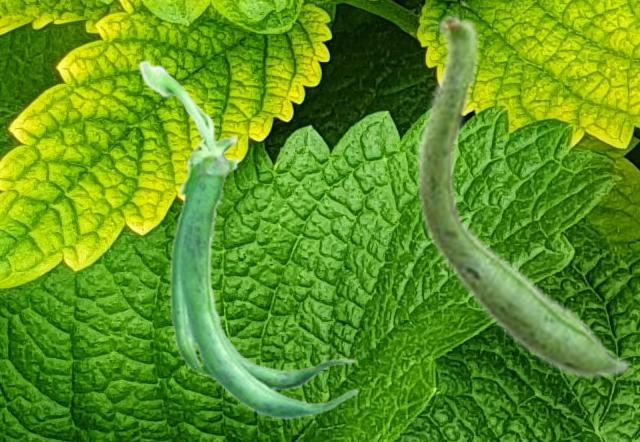french_bean: (137, 59, 358, 419), (415, 10, 630, 379)
